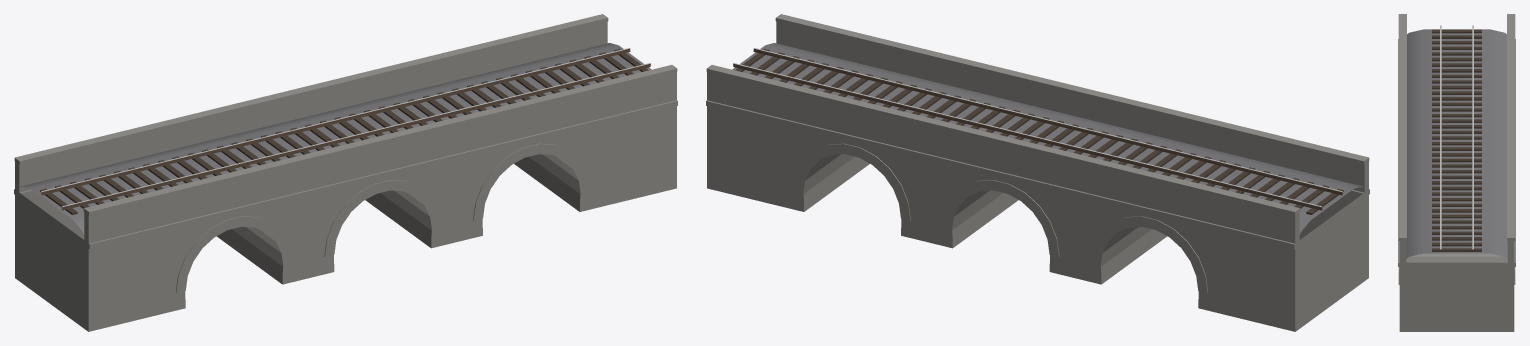
The model's file is rail_viaduct_l1.glb.
3 views of the same model, side by side, from view 1: azimuth 30°, elevation 25°; view 2: azimuth 150°, elevation 25°; view 3: azimuth 270°, elevation 25° (orthographic). The views are drawn at different scales.
Visible parts, largest first — view 1: rail_viaduct_l1_lod0; view 2: rail_viaduct_l1_lod0; view 3: rail_viaduct_l1_lod0.
Boxes of the visible parts, left/top/right/bottom form: rail_viaduct_l1_lod0: left=14, top=14, right=677, bottom=331; rail_viaduct_l1_lod0: left=706, top=14, right=1369, bottom=331; rail_viaduct_l1_lod0: left=1398, top=14, right=1515, bottom=331.
Size of what is drawn, in the model's own units: 27.71 by 5.41 by 6.16.
